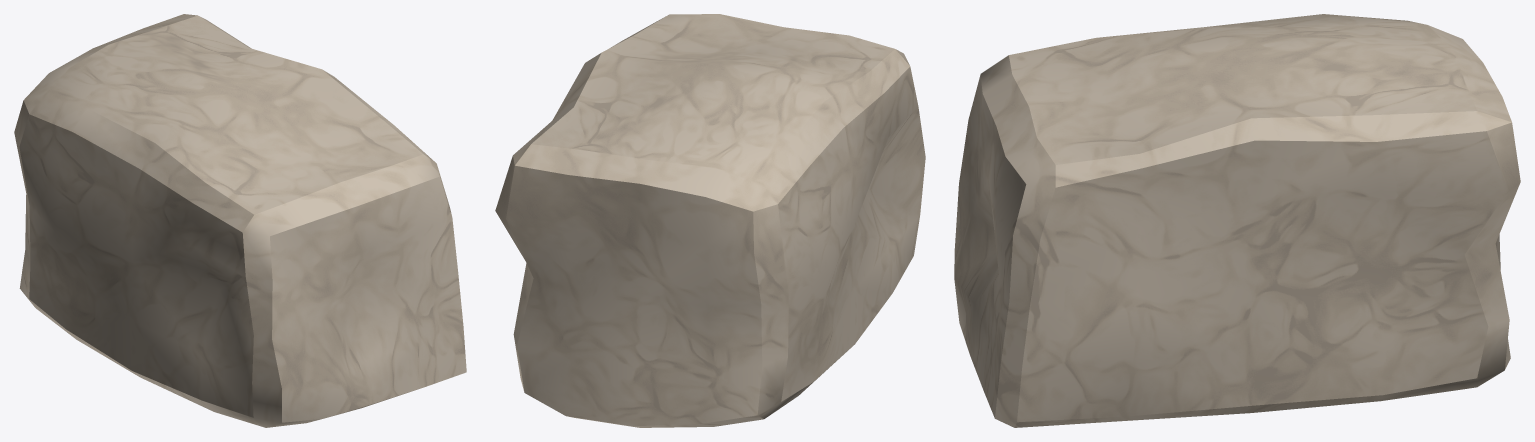
Rendered from cegla.obj.
3 views of the same model, side by side, from view 1: azimuth 30°, elevation 25°; view 2: azimuth 150°, elevation 25°; view 3: azimuth 270°, elevation 25° (orthographic). The views are drawn at different scales.
Visible parts, largest first — view 1: Cube.040; view 2: Cube.040; view 3: Cube.040.
Part boxes in pixels (box(x1,y1,x2,y2)): Cube.040: box(14, 14, 466, 427); Cube.040: box(495, 14, 925, 427); Cube.040: box(954, 14, 1520, 427).
Bounding box in the file's own units: 7.44 × 6.46 × 10.81.
Materials: 1 (1 with a texture image).
